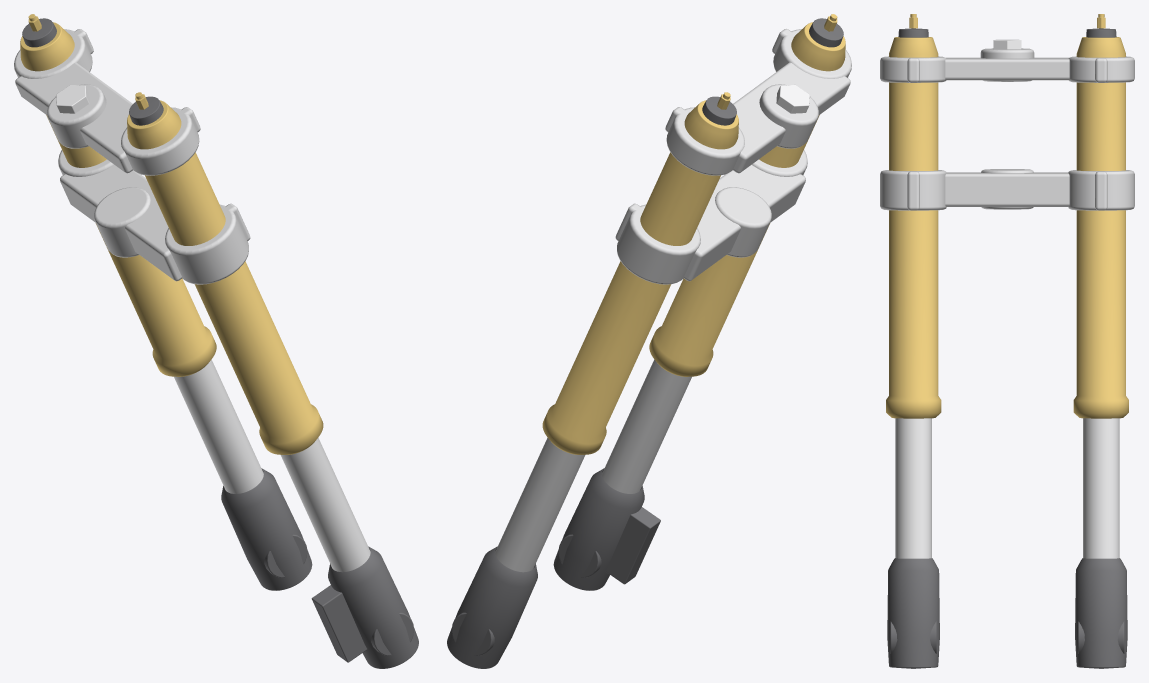
The model's file is bike_superbike__forks.glb.
3 renders of one model, left to right at view 1: azimuth 30°, elevation 25°; view 2: azimuth 150°, elevation 25°; view 3: azimuth 270°, elevation 25°, orthographic. The views are drawn at different scales.
Parts seen in each view (by area): view 1: chassis__front_fork__left_outer_tube, chassis__steering__lower_triple_clamp, chassis__steering__upper_triple_clamp, chassis__front_fork__right_outer_tube, chassis__front_fork__left_axle_foot, chassis__front_fork__right_axle_foot, chassis__front_fork__right_inner_tube, chassis__front_fork__left_inner_tube, chassis__steering__stem_nut, chassis__front_fork__right_cap, chassis__front_fork__left_cap; view 2: chassis__front_fork__right_outer_tube, chassis__steering__lower_triple_clamp, chassis__steering__upper_triple_clamp, chassis__front_fork__left_outer_tube, chassis__front_fork__left_axle_foot, chassis__front_fork__right_axle_foot, chassis__front_fork__right_inner_tube, chassis__front_fork__left_inner_tube, chassis__steering__stem_nut, chassis__front_fork__right_cap, chassis__front_fork__left_cap; view 3: chassis__front_fork__left_outer_tube, chassis__front_fork__right_outer_tube, chassis__steering__lower_triple_clamp, chassis__steering__upper_triple_clamp, chassis__front_fork__left_axle_foot, chassis__front_fork__right_axle_foot, chassis__front_fork__left_inner_tube, chassis__front_fork__right_inner_tube.
Part boxes in pixels (x1=…): chassis__front_fork__left_outer_tube: x1=127, y1=100, x2=323, y2=454; chassis__steering__lower_triple_clamp: x1=58, y1=150, x2=250, y2=284; chassis__steering__upper_triple_clamp: x1=14, y1=29, x2=200, y2=175; chassis__front_fork__right_outer_tube: x1=20, y1=22, x2=216, y2=376; chassis__front_fork__left_axle_foot: x1=311, y1=546, x2=418, y2=668; chassis__front_fork__right_axle_foot: x1=221, y1=468, x2=312, y2=590; chassis__front_fork__right_inner_tube: x1=174, y1=359, x2=263, y2=493; chassis__front_fork__left_inner_tube: x1=280, y1=437, x2=370, y2=572; chassis__steering__stem_nut: x1=56, y1=85, x2=89, y2=113; chassis__front_fork__right_cap: x1=22, y1=18, x2=56, y2=47; chassis__front_fork__left_cap: x1=129, y1=96, x2=163, y2=125; chassis__front_fork__right_outer_tube: x1=542, y1=100, x2=738, y2=454; chassis__steering__lower_triple_clamp: x1=615, y1=150, x2=807, y2=284; chassis__steering__upper_triple_clamp: x1=665, y1=29, x2=851, y2=175; chassis__front_fork__left_outer_tube: x1=649, y1=22, x2=845, y2=376; chassis__front_fork__left_axle_foot: x1=553, y1=468, x2=660, y2=590; chassis__front_fork__right_axle_foot: x1=447, y1=546, x2=537, y2=668; chassis__front_fork__right_inner_tube: x1=495, y1=437, x2=585, y2=572; chassis__front_fork__left_inner_tube: x1=602, y1=359, x2=691, y2=493; chassis__steering__stem_nut: x1=776, y1=85, x2=809, y2=113; chassis__front_fork__right_cap: x1=702, y1=96, x2=736, y2=125; chassis__front_fork__left_cap: x1=809, y1=18, x2=843, y2=47; chassis__front_fork__left_outer_tube: x1=886, y1=37, x2=941, y2=418; chassis__front_fork__right_outer_tube: x1=1073, y1=37, x2=1128, y2=418; chassis__steering__lower_triple_clamp: x1=880, y1=169, x2=1134, y2=210; chassis__steering__upper_triple_clamp: x1=880, y1=48, x2=1134, y2=82; chassis__front_fork__left_axle_foot: x1=887, y1=558, x2=939, y2=668; chassis__front_fork__right_axle_foot: x1=1075, y1=558, x2=1127, y2=668; chassis__front_fork__left_inner_tube: x1=895, y1=418, x2=931, y2=558; chassis__front_fork__right_inner_tube: x1=1083, y1=418, x2=1119, y2=558.
Bounding box in the file's own units: 35.22 × 68.31 × 28.5.
